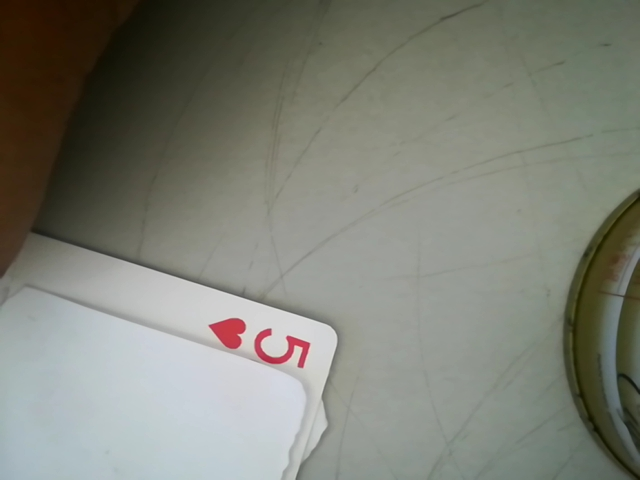hx 5: (200, 311, 329, 376)
